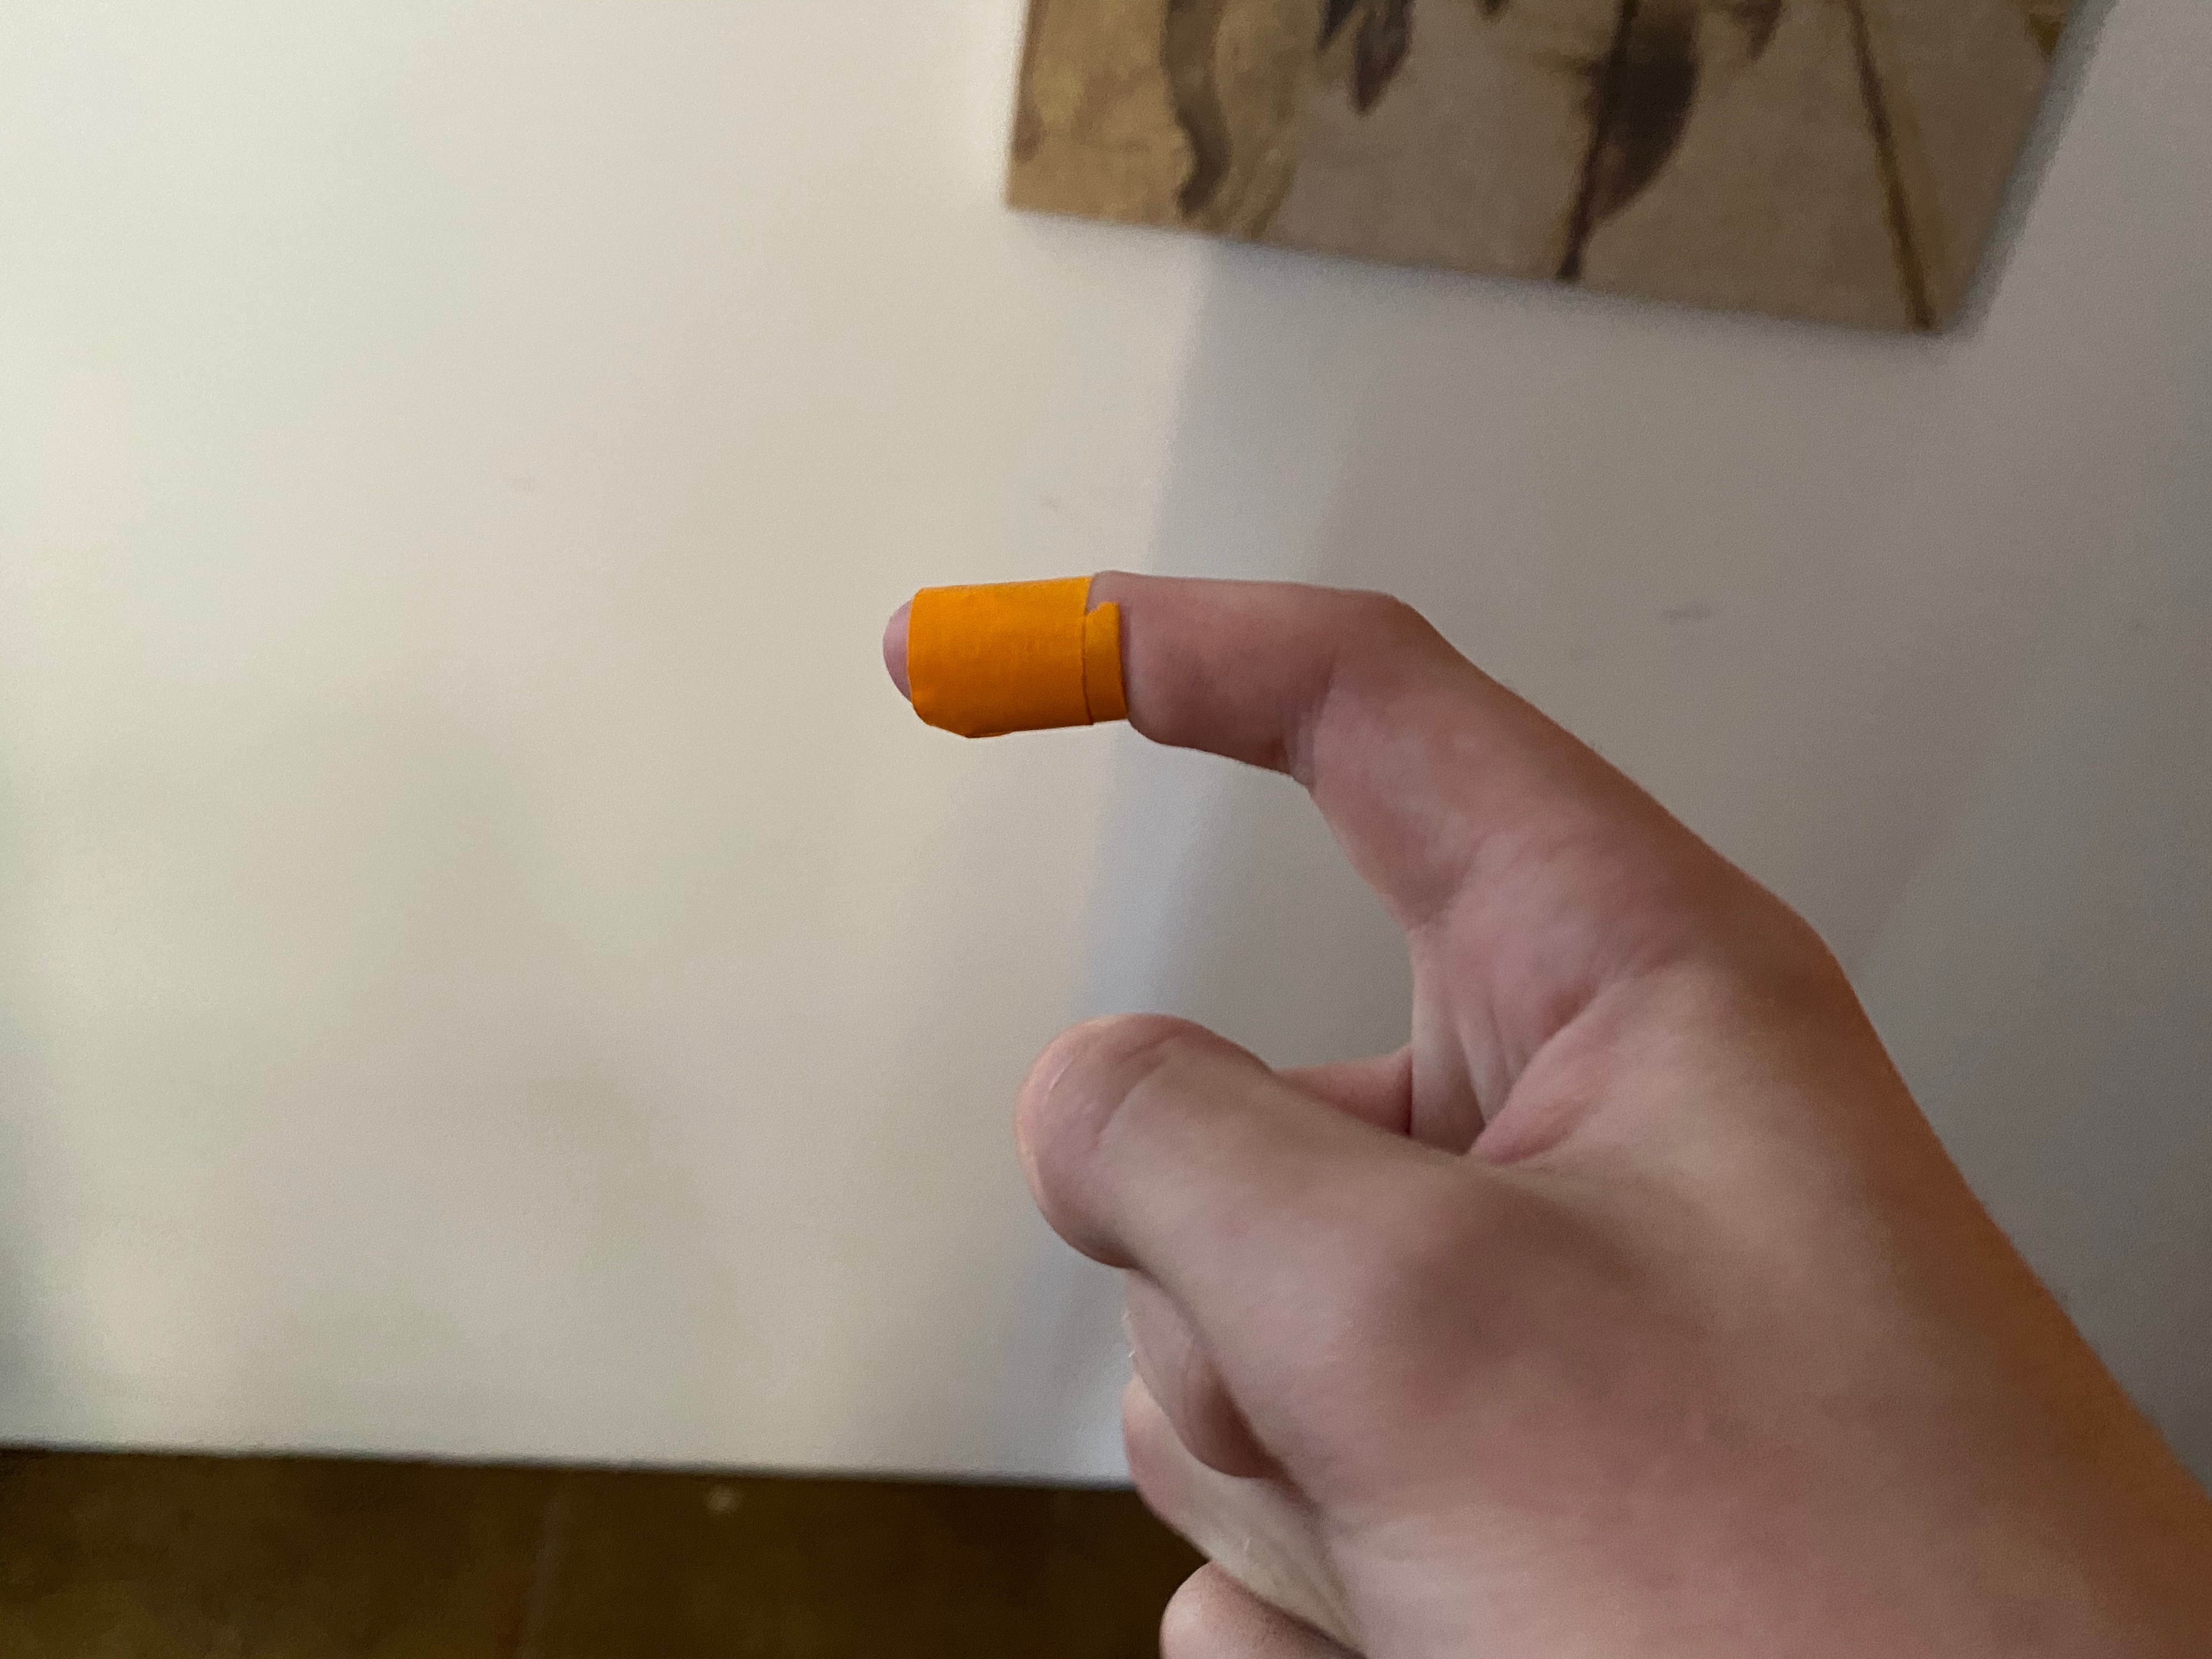fingertip: (864, 540, 1176, 779)
